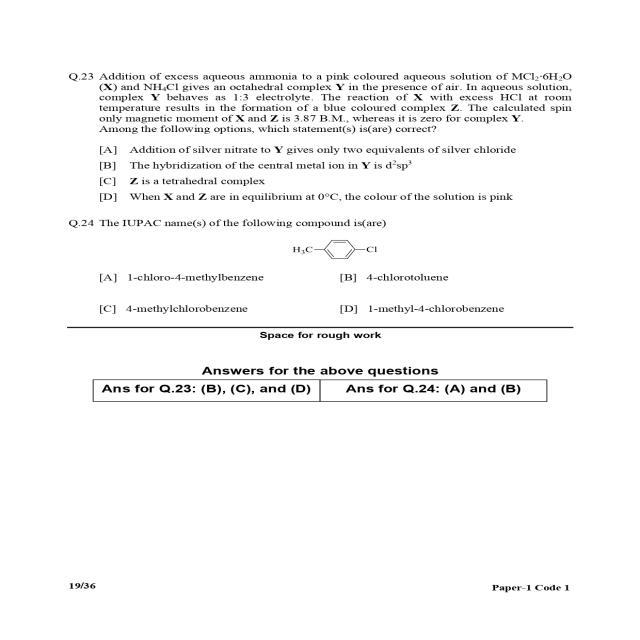Answer_Block: (59, 138, 616, 214), (59, 262, 616, 326)
Description: (59, 326, 616, 419)
Question_Answer_Block: (59, 66, 616, 216), (59, 211, 616, 328)
Question_Block: (59, 66, 616, 141), (59, 211, 616, 266)
Question_Paper_Area: (59, 66, 616, 582)
